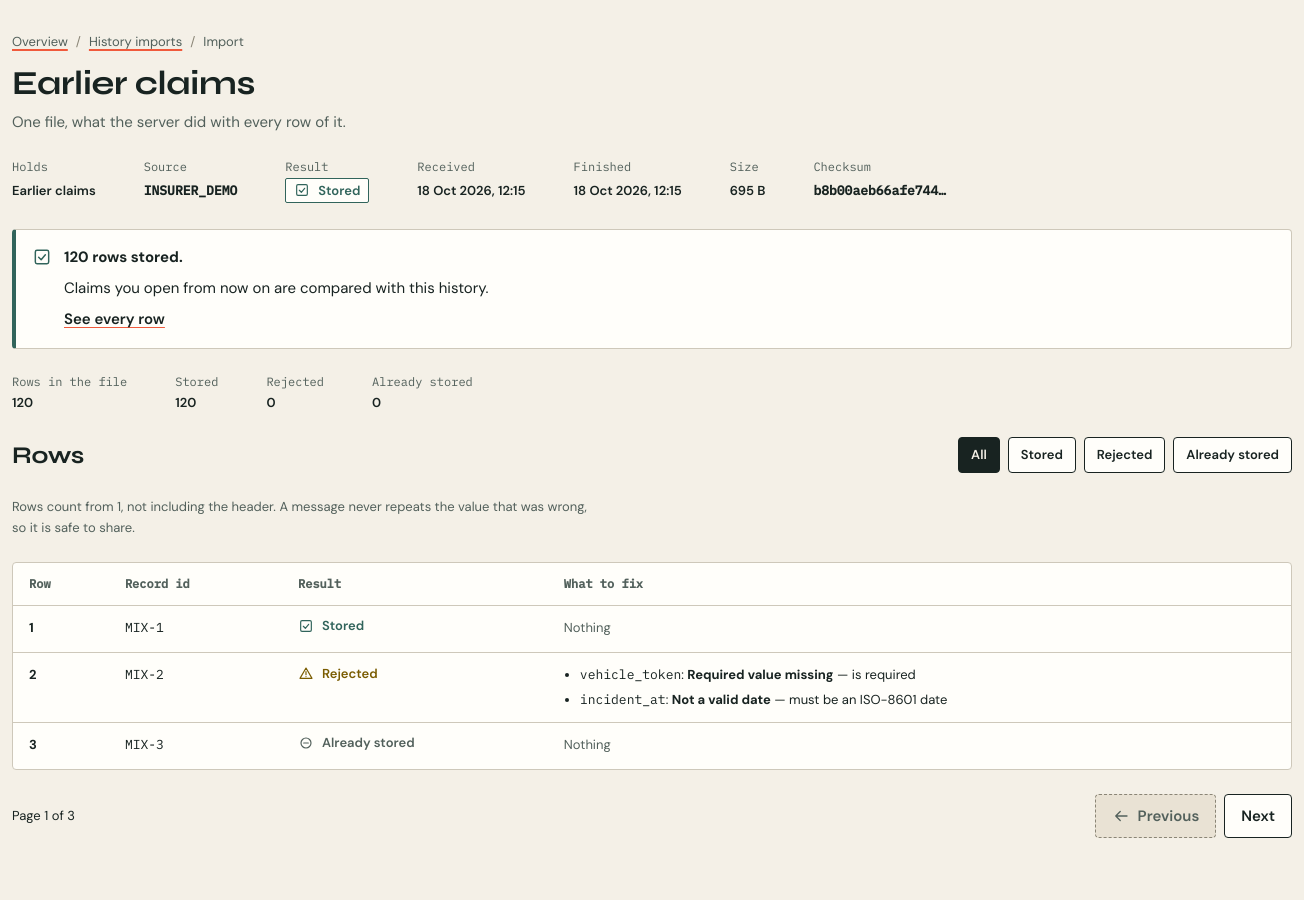
Test: an import › pages through many rows
The width and height of the screenshot is (1304, 900).
Check: the text "Page 1 of 3" is shown, box [12,806,75,826]
Click the button "Next".
click(1258, 816)  # box [1224,794,1292,838]
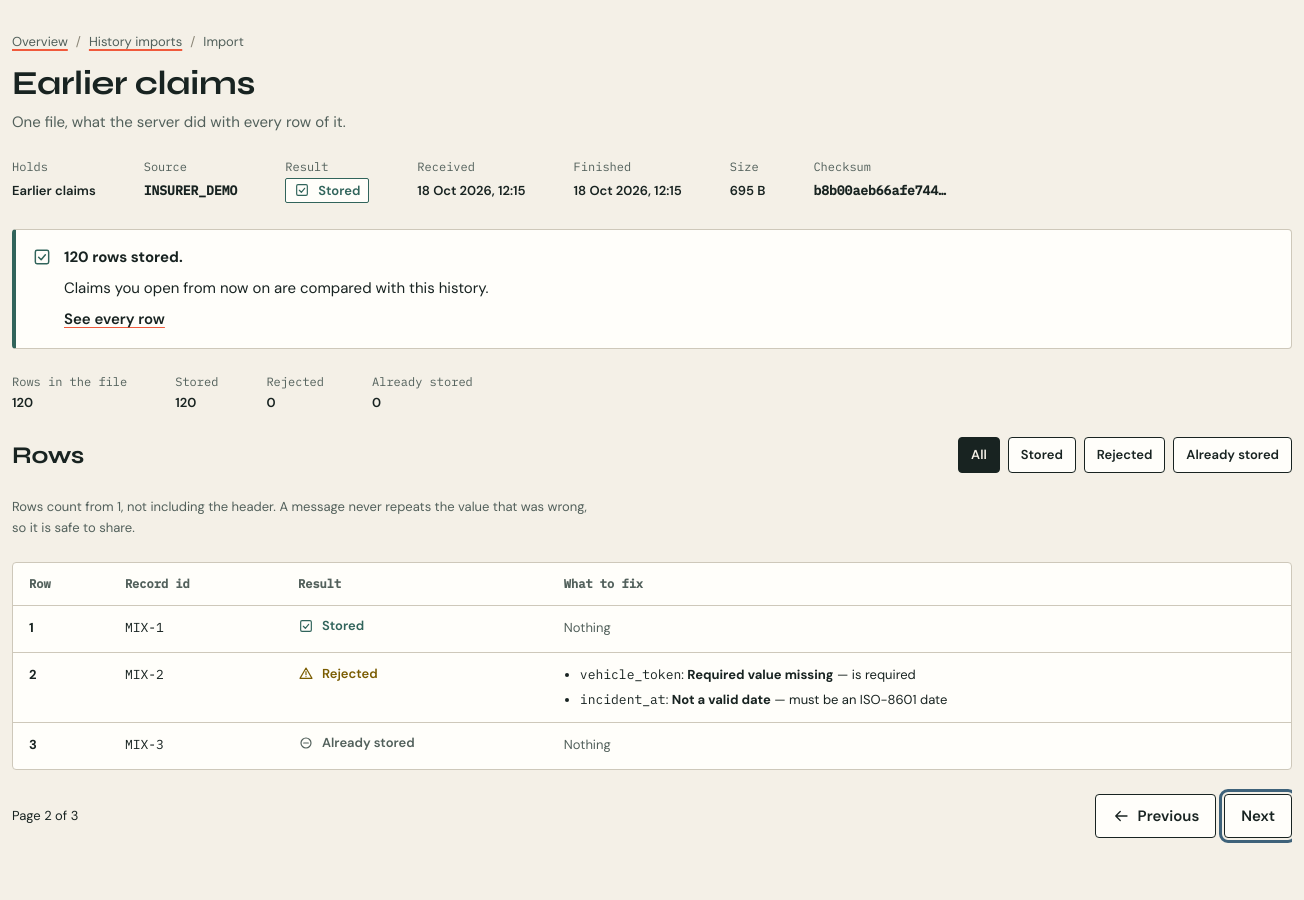
Check: the text "Page 2 of 3" is shown, box [12,806,78,826]
